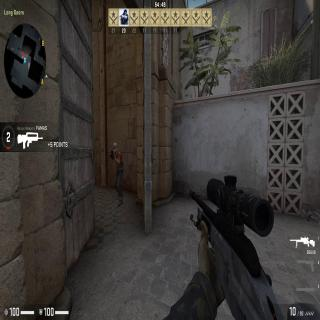T-Body: (111, 142, 125, 207)
T-Head: (112, 142, 117, 152)
